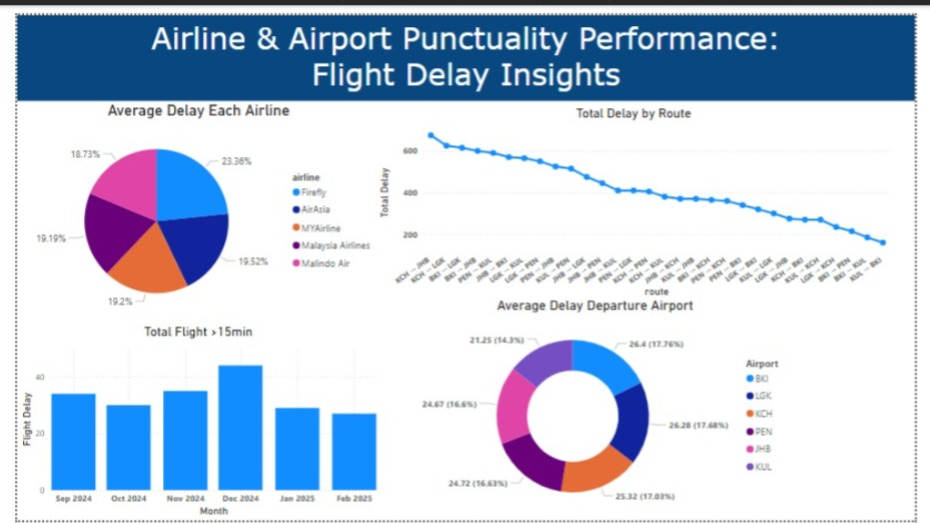

What the dashboard file says about the page in this screenshot:
{"tool":"powerbi","page":{"name":"Page 1","canvas":[1280,720],"ordinal":0},"visuals":[{"type":"textbox","box":[0,0,1279.7,122.3],"z":0},{"type":"pieChart","title":"Average Delay Each Airline","fields":{"Y":["Sum(airline highest average delay.average_delay)"],"Category":["airline highest average delay.airline"]},"box":[0,122.6,517.4,317.2],"z":1},{"type":"donutChart","title":"Average Delay Departure Airport","fields":{"Y":["Sum(average delay each airport.average_delay)"],"Category":["average delay each airport.departure_airport"]},"box":[540,401.7,568.3,318.3],"z":2},{"type":"lineChart","title":"Total Delay by Route","fields":{"Category":["route delay.route"],"Y":["Sum(route delay.total_delay)"]},"box":[510,128.3,738.3,278.3],"z":4},{"type":"columnChart","title":"Total Flight >15min","fields":{"Y":["Sum(flight delay more 15min.total_flight)"],"Category":["flight delay more 15min.month"]},"box":[0,440,517,280],"z":5}]}

Visuals, with their boxes in screenshot pixels (x1, y1, x2, y2), scaled from the page's 1280x720 canvas onto the 930x523 screenshot:
textbox: 0,0,929,89
"Average Delay Each Airline" pieChart: 0,89,376,319
"Average Delay Departure Airport" donutChart: 392,292,805,522
"Total Delay by Route" lineChart: 371,93,907,295
"Total Flight >15min" columnChart: 0,320,376,522
